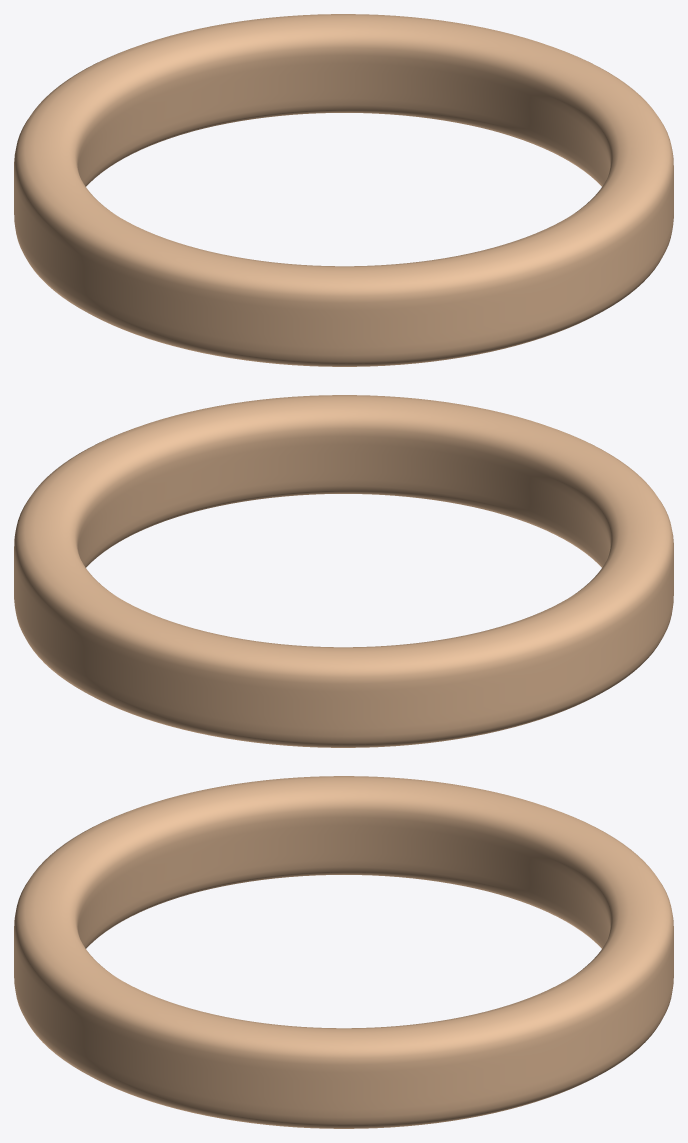
File: WeddingRing.fbx
The picture shows the model from 3 angles, top to bottom: view 1: azimuth 30°, elevation 25°; view 2: azimuth 150°, elevation 25°; view 3: azimuth 270°, elevation 25°; orthographic projection.
Visible parts, largest first — view 1: Ring; view 2: Ring; view 3: Ring.
Boxes of the visible parts, x1,y1,x2,y2 form: Ring: [14, 14, 673, 366]; Ring: [14, 395, 673, 747]; Ring: [14, 776, 673, 1128].
Bounding box in the file's own units: 0.9936 × 0.1468 × 0.9936.
